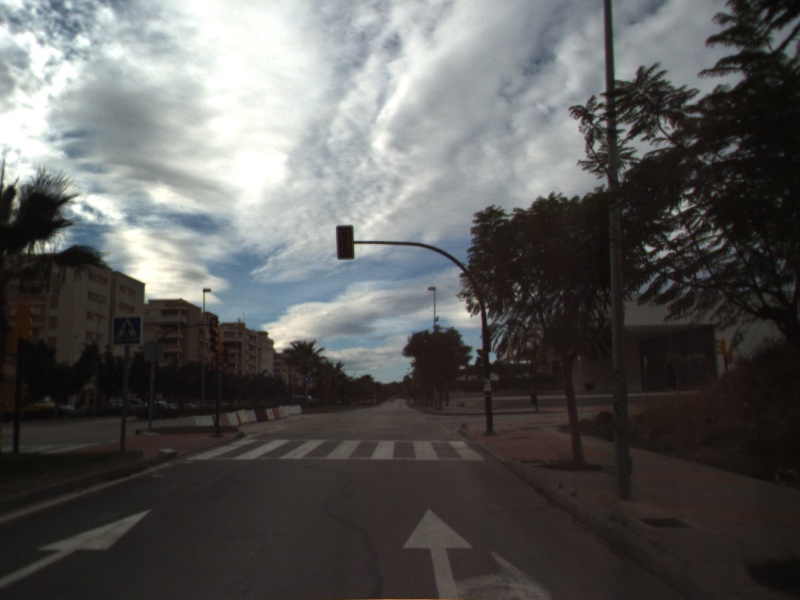STRAIGHT: (1, 507, 155, 590)
STRAIGHT_RIGHT: (401, 506, 555, 600)
